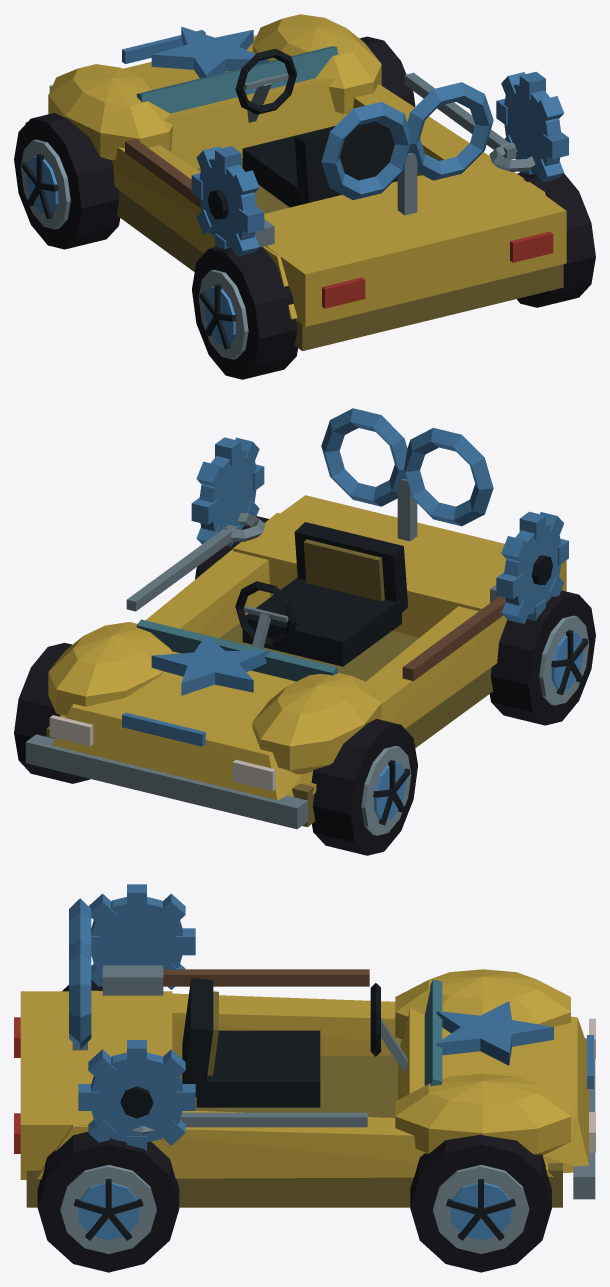
File: kart.glb
3 views of the same model, one above another, from view 1: azimuth 30°, elevation 25°; view 2: azimuth 150°, elevation 25°; view 3: azimuth 270°, elevation 25° (orthographic). The views are drawn at different scales.
Visible parts, largest first — view 1: identity-toy-car-toy-rounded-body-and-wind-up-key, identity-toy-car-motif-gears, wheel-rear-left, wheel-front-left, identity-toy-car-driver-cockpit, wheel-rear-right, identity-toy-car-motif-tools, identity-toy-car-motif-star, wheel-front-right; view 2: identity-toy-car-toy-rounded-body-and-wind-up-key, identity-toy-car-driver-cockpit, identity-toy-car-motif-gears, wheel-front-left, wheel-rear-left, identity-toy-car-motif-tools, identity-toy-car-motif-star, wheel-front-right; view 3: identity-toy-car-toy-rounded-body-and-wind-up-key, identity-toy-car-motif-gears, wheel-front-right, wheel-rear-right, identity-toy-car-driver-cockpit, identity-toy-car-motif-tools, identity-toy-car-motif-star.
Boxes of the visible parts, <box> form: identity-toy-car-toy-rounded-body-and-wind-up-key: <box>25,14,566,351</box>; identity-toy-car-motif-gears: <box>191,71,568,256</box>; wheel-rear-left: <box>192,247,297,379</box>; wheel-front-left: <box>14,113,120,249</box>; identity-toy-car-driver-cockpit: <box>235,48,397,207</box>; wheel-rear-right: <box>517,172,595,307</box>; identity-toy-car-motif-tools: <box>125,72,535,247</box>; identity-toy-car-motif-star: <box>151,26,268,78</box>; wheel-front-right: <box>359,36,415,106</box>; identity-toy-car-toy-rounded-body-and-wind-up-key: <box>25,408,566,829</box>; identity-toy-car-driver-cockpit: <box>235,522,407,666</box>; identity-toy-car-motif-gears: <box>191,437,568,623</box>; wheel-front-left: <box>311,719,417,855</box>; wheel-rear-left: <box>489,590,595,725</box>; identity-toy-car-motif-tools: <box>126,512,505,680</box>; identity-toy-car-motif-star: <box>151,635,268,695</box>; wheel-front-right: <box>14,642,89,783</box>; identity-toy-car-toy-rounded-body-and-wind-up-key: <box>14,898,595,1207</box>; identity-toy-car-motif-gears: <box>78,884,195,1151</box>; wheel-front-right: <box>410,1134,551,1272</box>; wheel-rear-right: <box>37,1131,179,1272</box>; identity-toy-car-driver-cockpit: <box>182,978,407,1107</box>; identity-toy-car-motif-tools: <box>102,965,369,1134</box>; identity-toy-car-motif-star: <box>436,1001,553,1065</box>.
Size of the model in its own units: 2.13 by 1.42 by 2.88.
